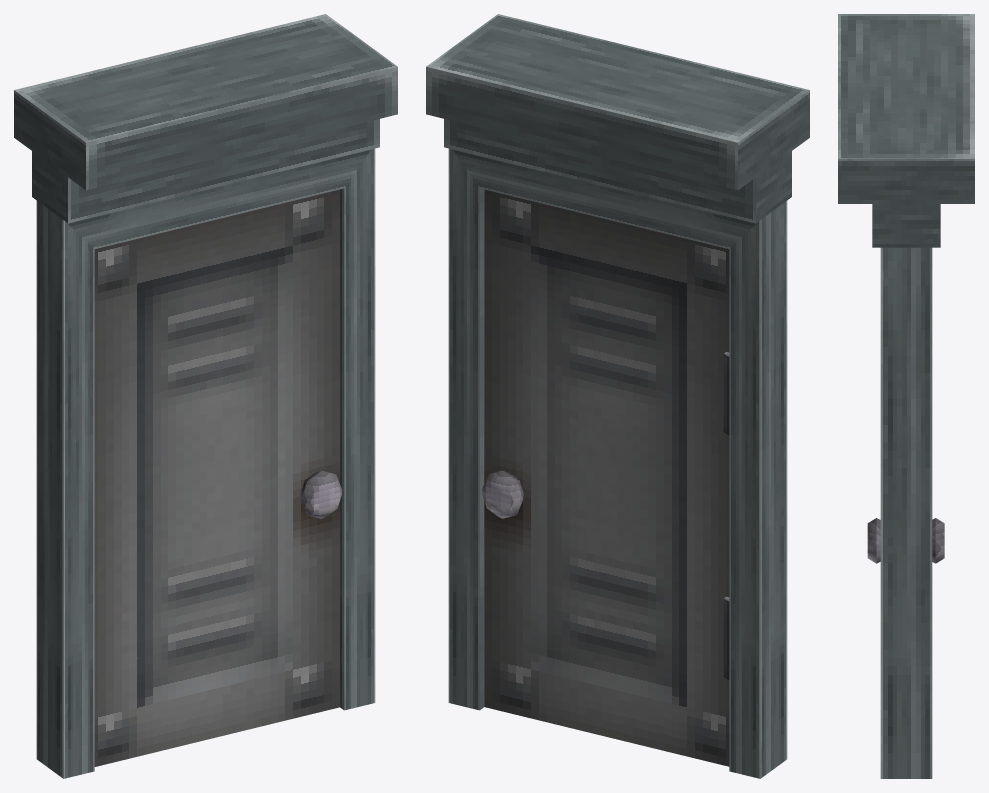
Rendered from Door Iron 01.fbx.
3 views of the same model, side by side, from view 1: azimuth 30°, elevation 25°; view 2: azimuth 150°, elevation 25°; view 3: azimuth 270°, elevation 25° (orthographic). The views are drawn at different scales.
Visible parts, largest first — view 1: door, frame; view 2: door, frame; view 3: frame, door.
Boxes of the visible parts, x1,y1,x2,y2 form: door: [94, 189, 342, 766]; frame: [14, 14, 397, 778]; door: [482, 189, 729, 766]; frame: [426, 14, 809, 778]; frame: [838, 14, 974, 778]; door: [867, 518, 944, 563].
Size of the model in its own units: 1 by 2 by 0.4.
